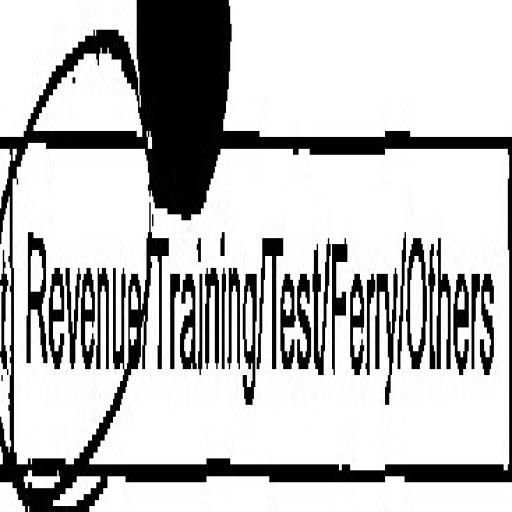check: (7, 18, 146, 512)
